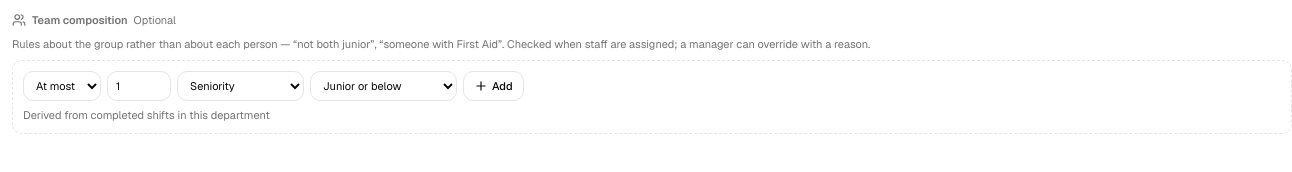
Test: CompositionRulesEditor › swaps the value control when the rule type changes
Expected: the dropdown named "Seniority level" is shown, [310,71,457,101]
Select "Certification" in the dropdown named "Rule type": (240,86) [177,71,304,101]
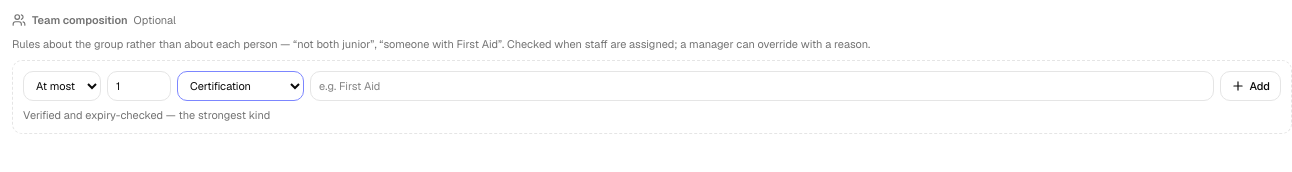
Now the field named "Certification name" is shown, box [310,71,1214,101]
